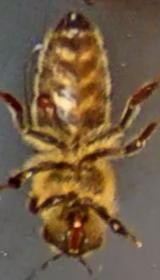varroa_mite: (23, 86, 68, 132)
